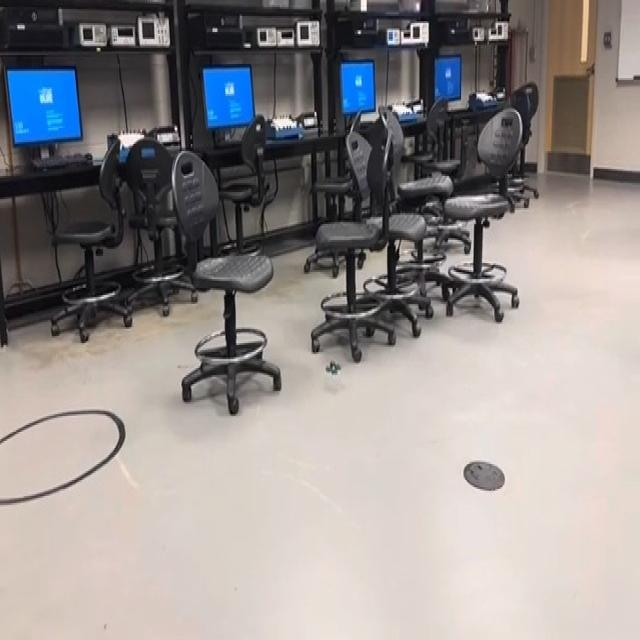drone: (318, 352, 350, 384)
